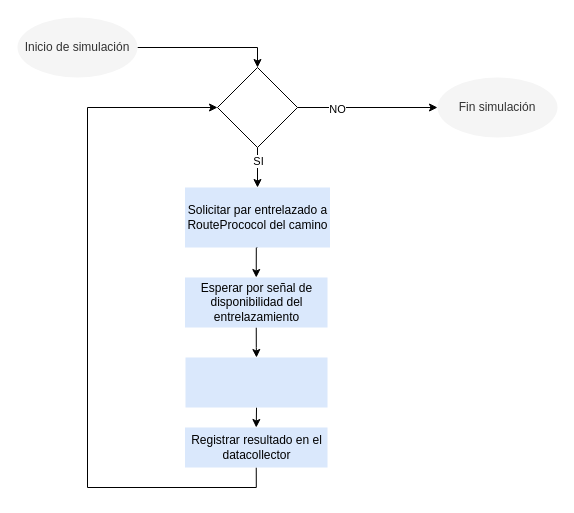
This 574x513 diagram has some shape labels left out. Here are the shapes that lost their labels. From the top down, the centre of each, then its label:
point (257, 107): Simulación activa?
point (256, 382): Medir fidelidad del par entrelazado respecto al ideal
